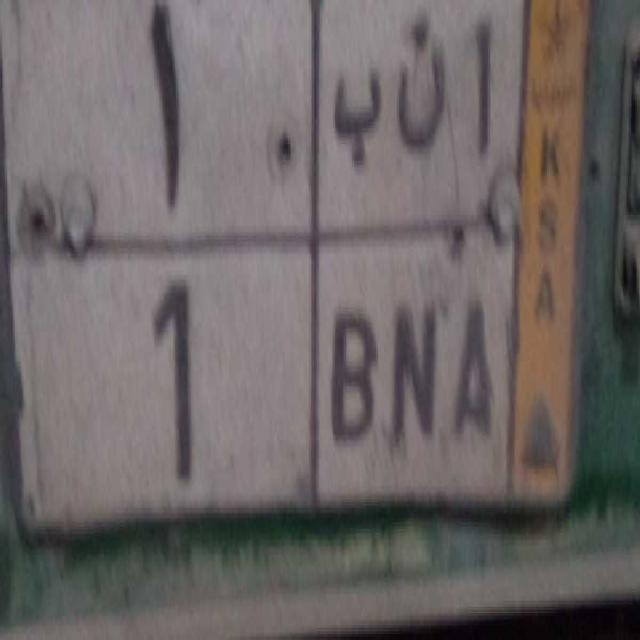license_plate: (26, 234, 514, 523)
